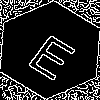E: (25, 25, 85, 82)
